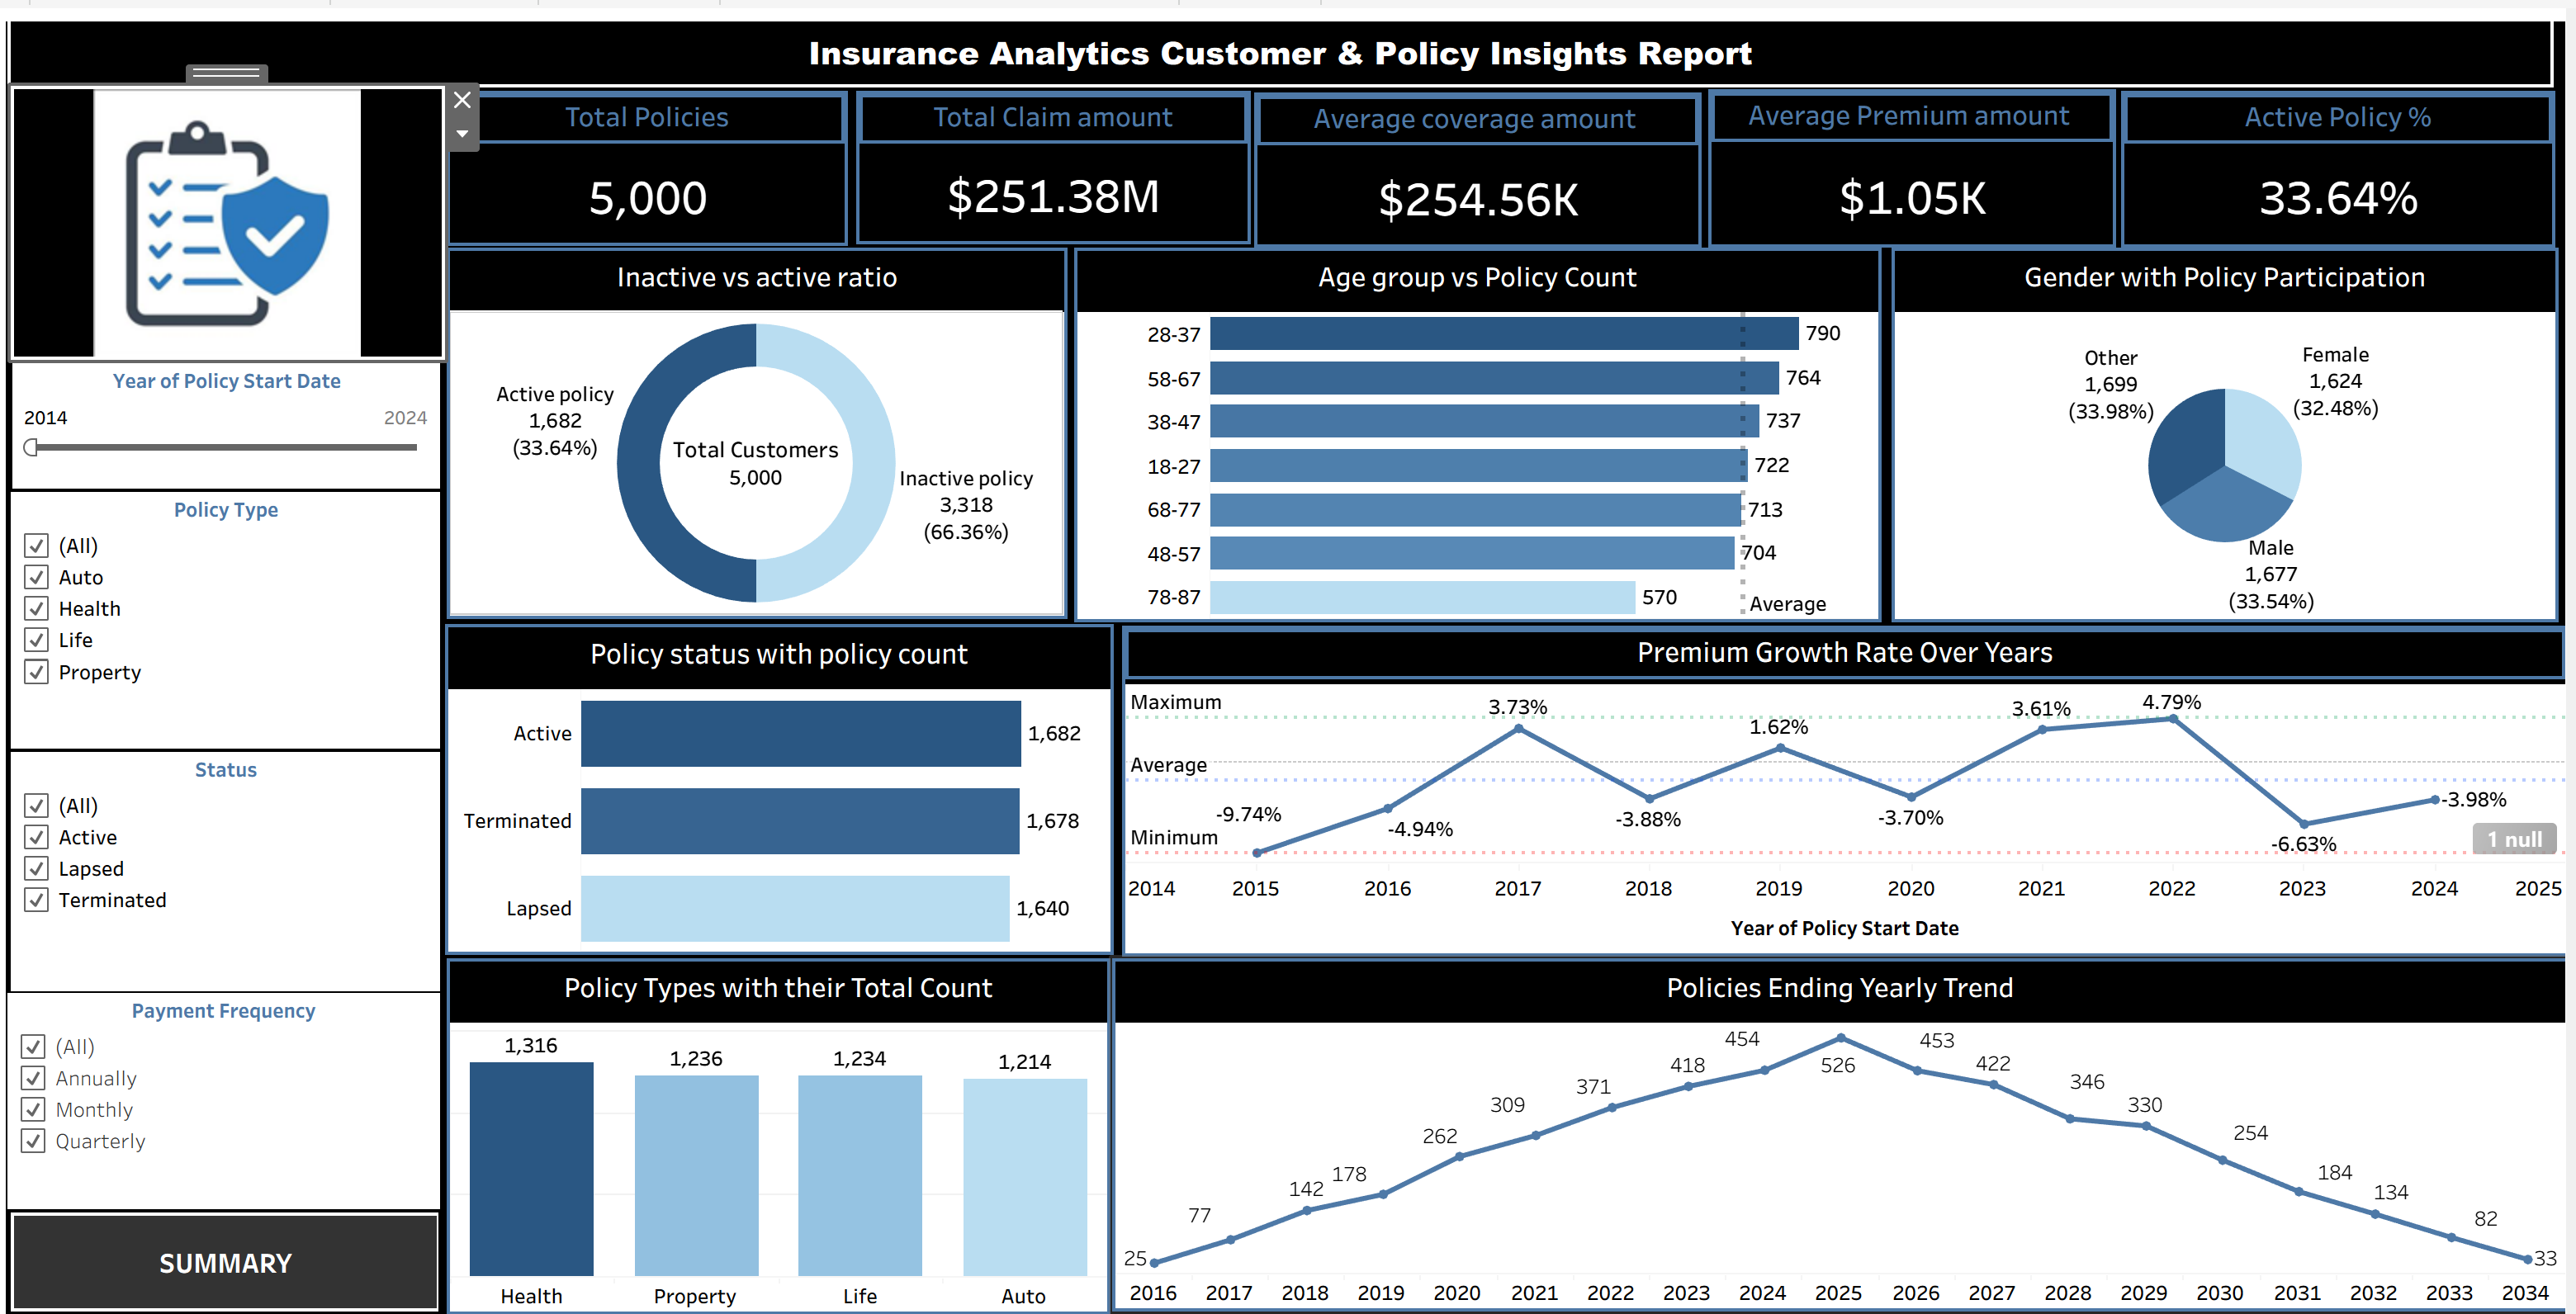

This screenshot's page, from the dashboard's own definition file:
{"tool":"tableau","page":{"name":"Insurance Analytics","canvas":[1000,1000],"units":"permille","ordinal":1},"visuals":[{"type":"title","box":[4.9,7.5,803.1,52.5]},{"type":"legend","title":"(A,T,L)bar chart","param":"[federated.0iqr1bp0k9dqkn1c01zkm07jbunb].[__tableau_internal_object_id__].[cnt:P","box":[912.5,10,83.3,81.2]},{"type":"image","param":"Image/policy icon.jpg","box":[5.6,58.8,137,207.5]},{"type":"worksheet","title":"Avg premium amount ","mark":"Automatic","box":[541.4,61.2,128.4,120]},{"type":"worksheet","title":"Tot Policies","mark":"Automatic","box":[143.2,62.5,126.5,117.5]},{"type":"worksheet","title":"Tot Claim amount","mark":"Automatic","box":[272.2,62.5,124.7,116.2]},{"type":"worksheet","title":"Active Policy%","mark":"Automatic","box":[671.6,62.5,137,118.8]},{"type":"worksheet","title":"Avg coverage amount","mark":"Automatic","box":[398.2,63.8,141.4,117.5]},{"type":"legend","title":"Inactive vs active ratio","param":"[federated.0iqr1bp0k9dqkn1c01zkm07jbunb].[none:Calculation_1186426660769796:nk]","box":[912.5,91.2,83.3,82.5]},{"type":"legend","title":"gender with policy participation","param":"[federated.0iqr1bp0k9dqkn1c01zkm07jbunb].[__tableau_internal_object_id__].[cnt:P","box":[912.5,173.8,83.3,57.5]},{"type":"worksheet","title":"Inactive vs active ratio","mark":"Pie","rows":["Calculation_1186426658430978","Calculation_1186426658430978"],"box":[143.2,181.2,195.7,281.2]},{"type":"worksheet","title":"11 & 12age group with highest no of policies","mark":"Automatic","rows":["Calculation_1186426671235078"],"cols":["Policy Details_42F07F5DE8A64929B04E4208BC262669"],"box":[341.4,181.2,254.9,283.8]},{"type":"worksheet","title":"gender with policy participation","mark":"Pie","box":[598.8,181.2,210.5,283.8]},{"type":"filter","title":"Avg premium growth rate","param":"[federated.0iqr1bp0k9dqkn1c01zkm07jbunb].[yr:Policy Start Date:qk]","box":[6.2,268.8,135.2,95]},{"type":"filter","title":"Total no of policies in policy types","param":"[federated.0iqr1bp0k9dqkn1c01zkm07jbunb].[none:Policy Type:nk]","box":[5.6,366.2,135.8,193.8]},{"type":"worksheet","title":"(A,T,L)bar chart","mark":"Automatic","rows":["Status"],"cols":["Policy Details_42F07F5DE8A64929B04E4208BC262669"],"box":[142.6,466.2,211.1,250]},{"type":"worksheet","title":"Avg premium growth rate","mark":"Automatic","rows":["Calculation_1186426682351625"],"cols":["Policy Start Date"],"box":[356.2,467.5,456.2,250]},{"type":"filter","title":"(A,T,L)bar chart","param":"[federated.0iqr1bp0k9dqkn1c01zkm07jbunb].[none:Status:nk]","box":[5.6,562.5,135.8,181.2]},{"type":"worksheet","title":"Total no of policies in policy types","mark":"Automatic","rows":["Policy Details_42F07F5DE8A64929B04E4208BC262669"],"cols":["Policy Type"],"box":[143.2,718.8,209.3,270]},{"type":"worksheet","title":"policies ending yearly trend","mark":"Automatic","rows":["Policy Details_42F07F5DE8A64929B04E4208BC262669"],"cols":["Policy End Date"],"box":[353.1,718.8,459.3,267.5]},{"type":"filter","title":"Inactive vs active ratio","param":"[federated.0iqr1bp0k9dqkn1c01zkm07jbunb].[none:Payment Frequency:nk]","box":[4.9,745,136.4,163.8]},{"type":"dashboard-object","box":[5.6,911.2,135.2,75]}]}

Visuals, with their boxes on the dashboard's canvas, which has no fixed pixel size, in thousandths of its width and height (x1, y1, x2, y2). These are canvas units, not pixel positions in the 2576x1314 screenshot, which may show the page scaled, cropped or inside an application window:
title: left=5, top=8, right=808, bottom=60
"(A,T,L)bar chart" legend: left=912, top=10, right=996, bottom=91
image: left=6, top=59, right=143, bottom=266
"Avg premium amount " worksheet: left=541, top=61, right=670, bottom=181
"Tot Policies" worksheet: left=143, top=62, right=270, bottom=180
"Tot Claim amount" worksheet: left=272, top=62, right=397, bottom=179
"Active Policy%" worksheet: left=672, top=62, right=809, bottom=181
"Avg coverage amount" worksheet: left=398, top=64, right=540, bottom=181
"Inactive vs active ratio" legend: left=912, top=91, right=996, bottom=174
"gender with policy participation" legend: left=912, top=174, right=996, bottom=231
"Inactive vs active ratio" worksheet (Pie marks): left=143, top=181, right=339, bottom=462
"11 & 12age group with highest no of policies" worksheet: left=341, top=181, right=596, bottom=465
"gender with policy participation" worksheet (Pie marks): left=599, top=181, right=809, bottom=465
"Avg premium growth rate" filter: left=6, top=269, right=141, bottom=364
"Total no of policies in policy types" filter: left=6, top=366, right=141, bottom=560
"(A,T,L)bar chart" worksheet: left=143, top=466, right=354, bottom=716
"Avg premium growth rate" worksheet: left=356, top=468, right=812, bottom=718
"(A,T,L)bar chart" filter: left=6, top=562, right=141, bottom=744
"Total no of policies in policy types" worksheet: left=143, top=719, right=352, bottom=989
"policies ending yearly trend" worksheet: left=353, top=719, right=812, bottom=986
"Inactive vs active ratio" filter: left=5, top=745, right=141, bottom=909
dashboard-object: left=6, top=911, right=141, bottom=986
